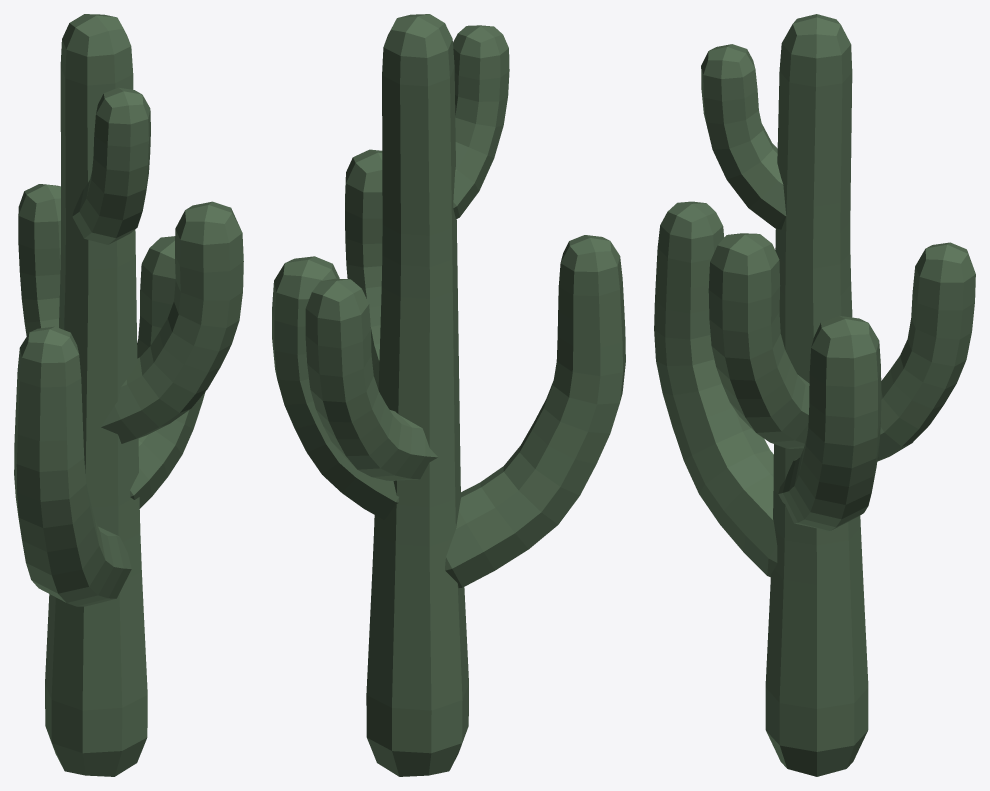
File: catcus.fbx
3 renders of one model, left to right at view 1: azimuth 30°, elevation 25°; view 2: azimuth 150°, elevation 25°; view 3: azimuth 270°, elevation 25°, orthographic.
Parts seen in each view (by area): view 1: Catcus, Plane.001, Plane.002, Plane.005, Plane.003, Plane.004; view 2: Catcus, Plane.001, Plane.004, Plane.003, Plane.005, Plane.002; view 3: Catcus, Plane.001, Plane.003, Plane.002, Plane.004, Plane.005.
Boxes of the visible parts, x1,y1,x2,y2 form: Catcus: [45, 14, 147, 776]; Plane.001: [14, 326, 131, 606]; Plane.002: [101, 201, 243, 443]; Plane.005: [72, 87, 150, 244]; Plane.003: [130, 236, 205, 508]; Plane.004: [18, 184, 60, 335]; Catcus: [366, 14, 468, 776]; Plane.001: [445, 235, 625, 587]; Plane.004: [305, 278, 438, 480]; Plane.003: [272, 256, 399, 519]; Plane.005: [453, 25, 509, 219]; Plane.002: [345, 149, 382, 389]; Catcus: [765, 14, 868, 776]; Plane.001: [654, 201, 777, 577]; Plane.003: [778, 316, 881, 531]; Plane.002: [708, 233, 809, 448]; Plane.004: [877, 242, 975, 461]; Plane.005: [701, 44, 786, 229].
Size of the model in its own units: 381 by 1025 by 396.
